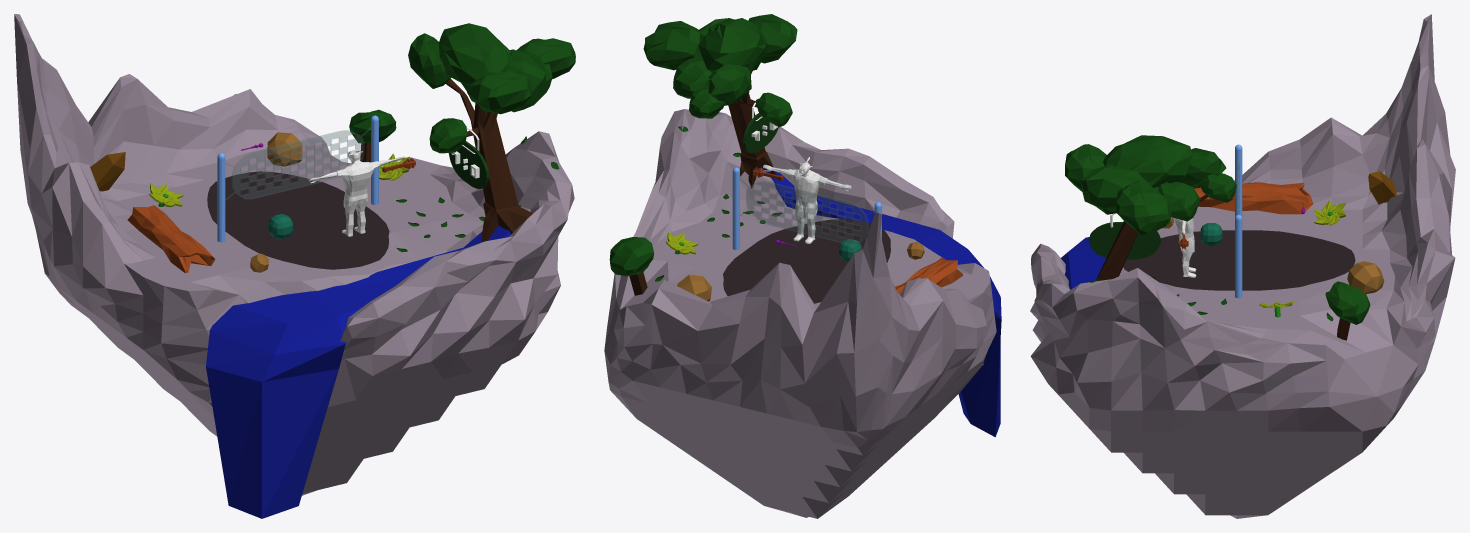
The model's file is Overworld.fbx.
3 renders of one model, left to right at view 1: azimuth 30°, elevation 25°; view 2: azimuth 150°, elevation 25°; view 3: azimuth 270°, elevation 25°, orthographic. The views are drawn at different scales.
Parts seen in each view (by area): view 1: Ground, Water, Field, Net, Stump_2, Leaf_7_2, Bench, Leaf_8_2, Orc, Leaf_10_2, NetStand, Leaf_6_2 (+6 smaller); view 2: Ground, Field, Water, Net, Leaf_7_2, Leaf_9_2, Orc, Stump_2, Leaf_2_2, Leaf_10_2, Leaf_8_2, Leaf_4_2 (+6 smaller); view 3: Ground, Field, Leaf_7_2, Bench, Leaf_9_2, Leaf_6_2, Scoreboard, Water, Leaf_2_2, NetStand, Stump_2, Leaf_8_2 (+7 smaller).
Part boxes in pixels (box(x1,y1,x2,y2)): Ground: box(14, 14, 574, 495); Water: box(206, 225, 510, 518); Field: box(207, 171, 389, 269); Net: box(225, 127, 371, 200); Stump_2: box(445, 78, 532, 241); Leaf_7_2: box(438, 23, 512, 90); Bench: box(127, 205, 215, 273); Leaf_8_2: box(467, 71, 531, 114); Orc: box(309, 149, 404, 236); Leaf_10_2: box(408, 33, 450, 88); NetStand: box(217, 115, 378, 242); Leaf_6_2: box(509, 49, 552, 112); Ground: box(604, 109, 996, 518); Field: box(723, 219, 890, 303); Water: box(760, 167, 1001, 437); Net: box(739, 178, 874, 244); Leaf_7_2: box(698, 18, 767, 72); Leaf_9_2: box(643, 21, 699, 70); Orc: box(763, 157, 851, 244); Stump_2: box(728, 70, 779, 188); Leaf_2_2: box(609, 237, 653, 276); Leaf_10_2: box(708, 64, 751, 105); Leaf_8_2: box(748, 14, 797, 63); Leaf_4_2: box(673, 58, 712, 98); Ground: box(1030, 14, 1455, 518); Field: box(1123, 230, 1355, 290); Leaf_7_2: box(1103, 135, 1192, 187); Bench: box(1194, 182, 1312, 214); Leaf_9_2: box(1116, 181, 1171, 234); Leaf_6_2: box(1081, 164, 1158, 214); Scoreboard: box(1089, 222, 1161, 259); Water: box(1061, 237, 1106, 289); Leaf_2_2: box(1325, 281, 1370, 324); NetStand: box(1235, 144, 1242, 298); Stump_2: box(1096, 194, 1208, 281); Leaf_8_2: box(1065, 144, 1106, 191).
Bounding box in the file's own units: 1216 × 1290 × 1129.
